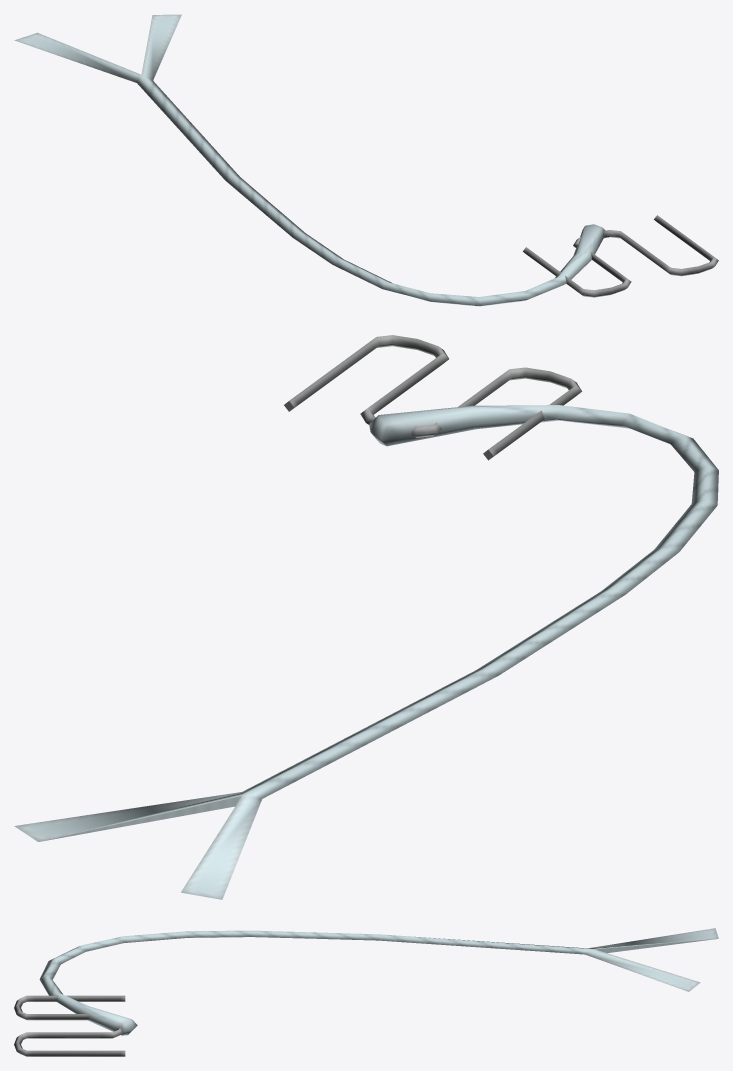
The model's file is jsf_TwistedPaper_03.fbx.
3 views of the same model, one above another, from view 1: azimuth 30°, elevation 25°; view 2: azimuth 150°, elevation 25°; view 3: azimuth 270°, elevation 25° (orthographic). The views are drawn at different scales.
Visible parts, largest first — view 1: Paper, Wire; view 2: Paper, Wire; view 3: Paper, Wire.
Part boxes in pixels (x1,y1,x2,y2): Paper: (14,14,605,306); Wire: (523,215,718,297); Paper: (14,405,718,899); Wire: (284,335,581,460); Paper: (39,928,718,1035); Wire: (14,995,125,1056).
Bounding box in the file's own units: 3.74 × 0.1965 × 8.77.
